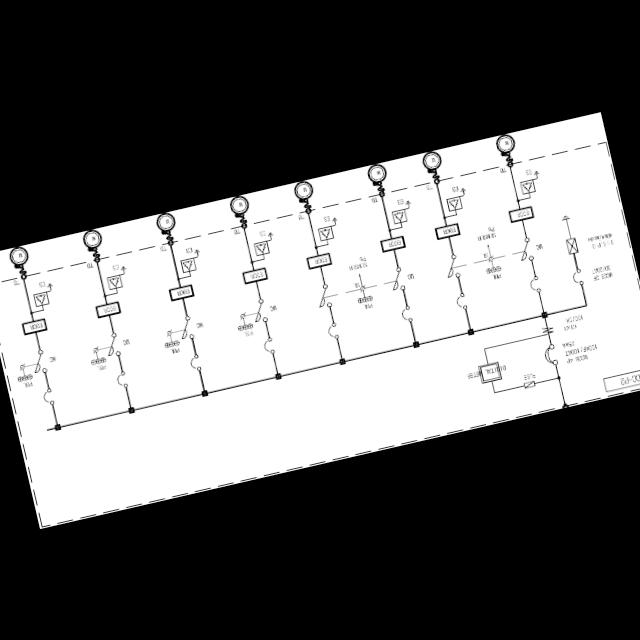ACB: (542, 343, 560, 367)
CT: (541, 324, 555, 336)
MCCB: (189, 352, 202, 372), (399, 304, 412, 322), (571, 268, 583, 286), (528, 275, 540, 293), (456, 292, 468, 310), (262, 336, 274, 354), (115, 370, 127, 388), (41, 388, 53, 406), (326, 322, 338, 339)
SC: (319, 226, 332, 238), (521, 180, 533, 192), (448, 197, 460, 209), (392, 210, 404, 222), (255, 242, 267, 254), (182, 258, 194, 270), (108, 276, 120, 288), (35, 292, 47, 304)
